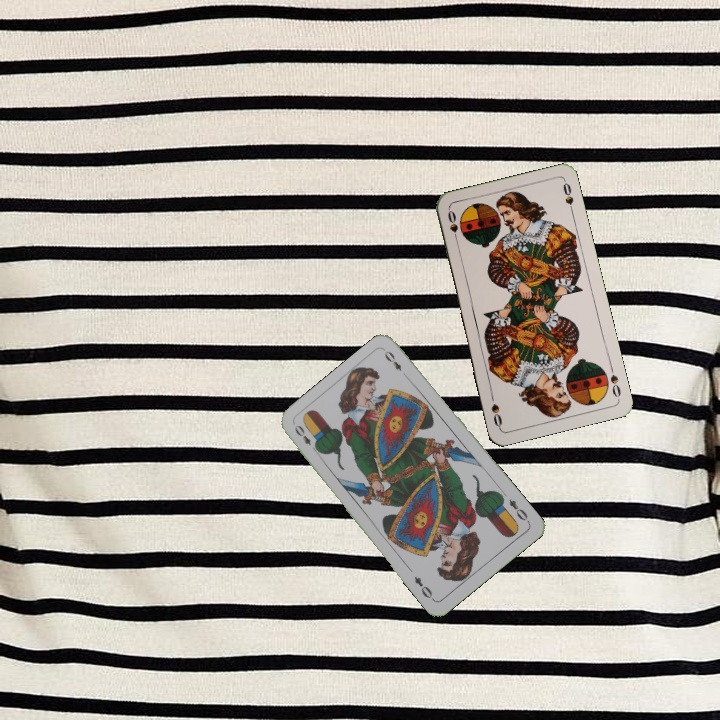EO: (290, 421, 321, 455), (505, 495, 532, 525)
SO: (444, 206, 461, 246), (606, 361, 623, 400)
